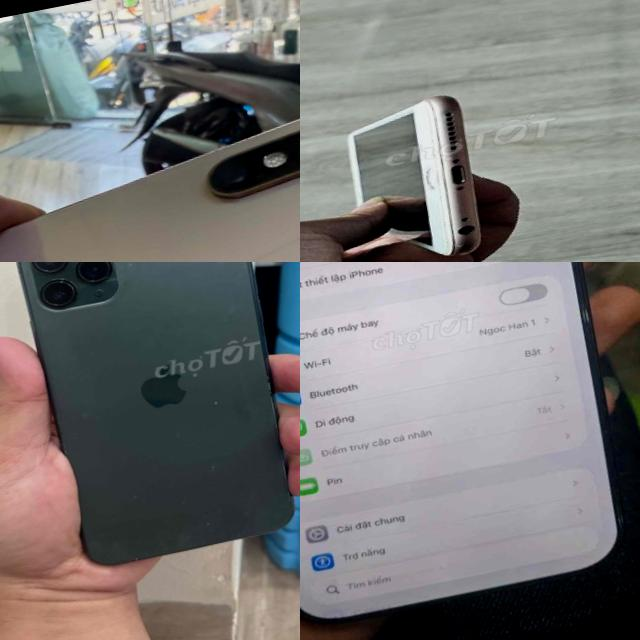gen_11: (0, 262, 300, 599)
gen_16: (300, 262, 622, 620)
gen_6: (347, 96, 482, 256)
gen_x_xs: (0, 78, 300, 262)
scratch: (196, 512, 233, 538), (438, 231, 474, 256), (204, 393, 228, 418), (125, 262, 142, 279)
